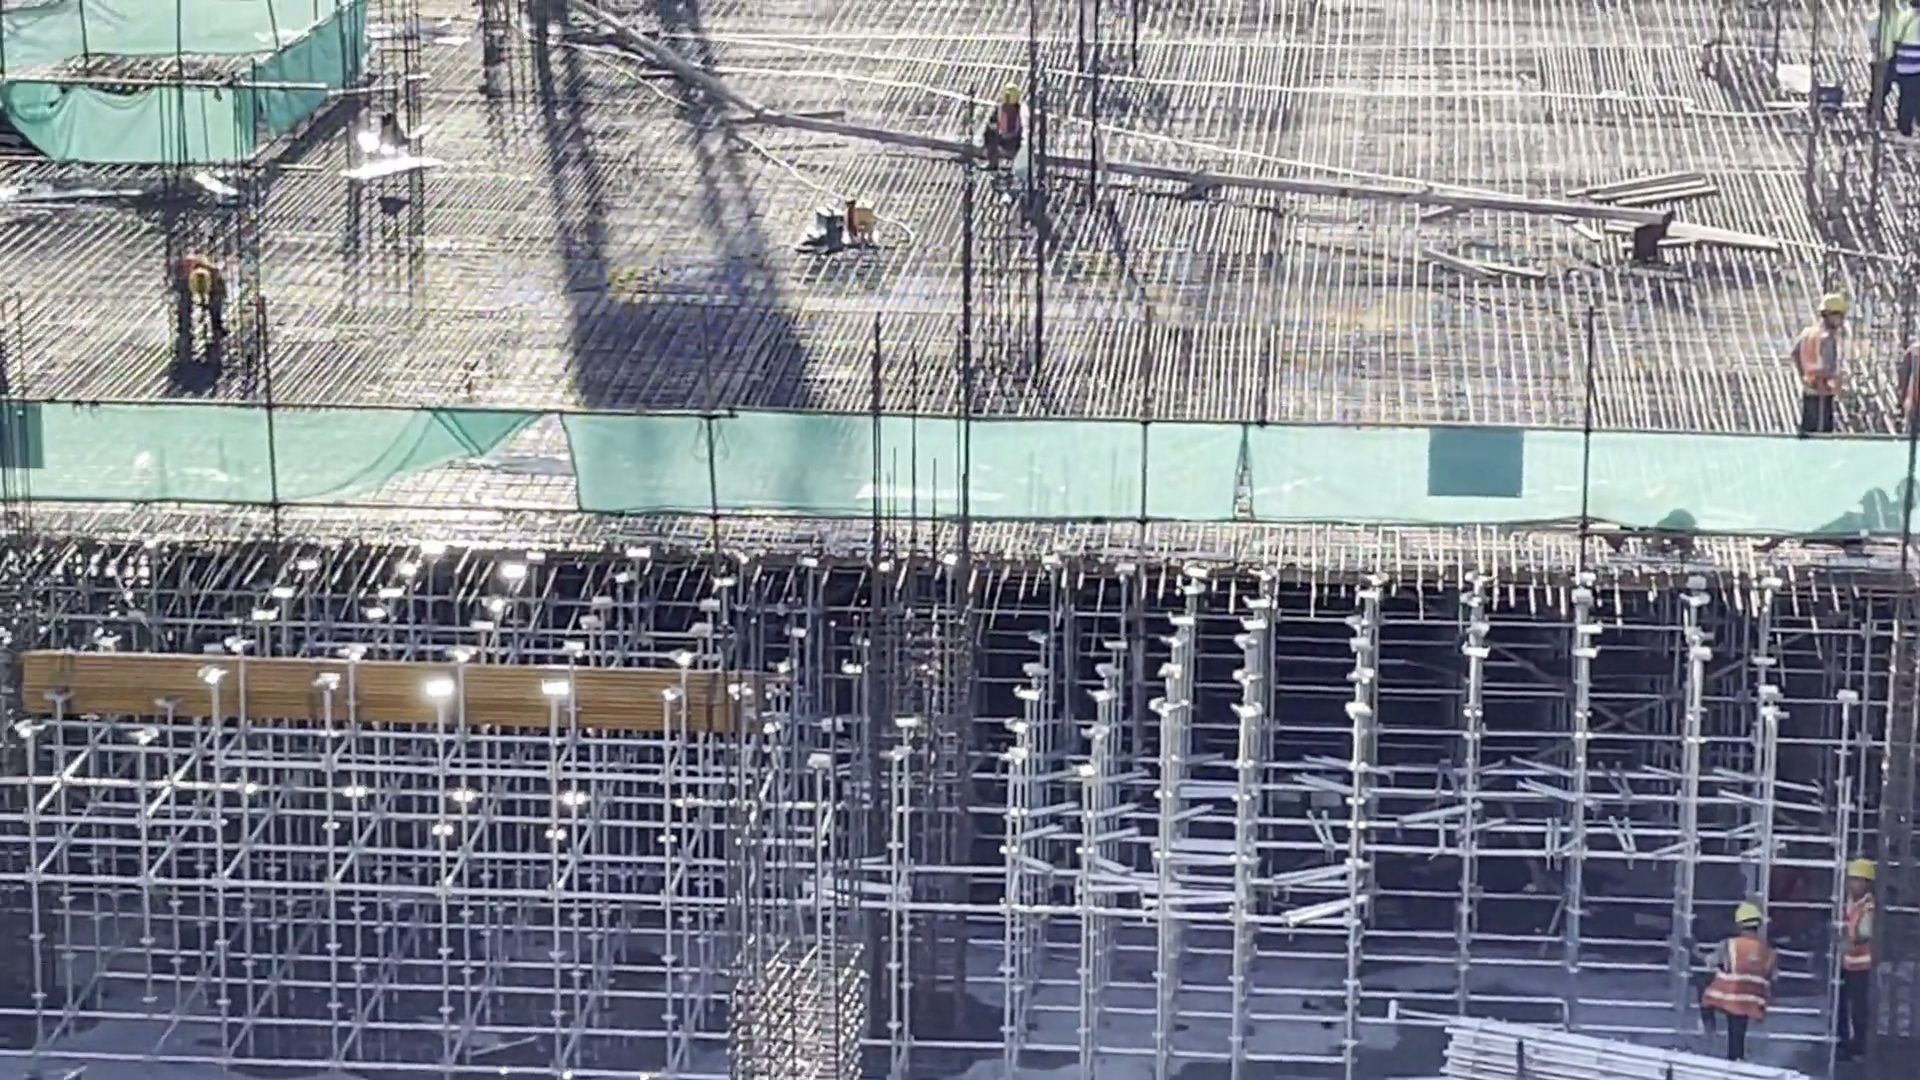helmet: (184, 265, 228, 304), (1730, 895, 1769, 938), (1821, 286, 1851, 331), (1837, 848, 1873, 878), (1003, 80, 1026, 111)
person: (1693, 900, 1792, 1049), (1823, 857, 1888, 1050), (166, 253, 277, 356), (1799, 290, 1862, 452), (978, 95, 1049, 178), (1889, 16, 1920, 157)
vest: (1717, 934, 1765, 1026), (1785, 327, 1837, 393), (1839, 896, 1882, 972), (1886, 20, 1920, 82), (993, 106, 1024, 149)
